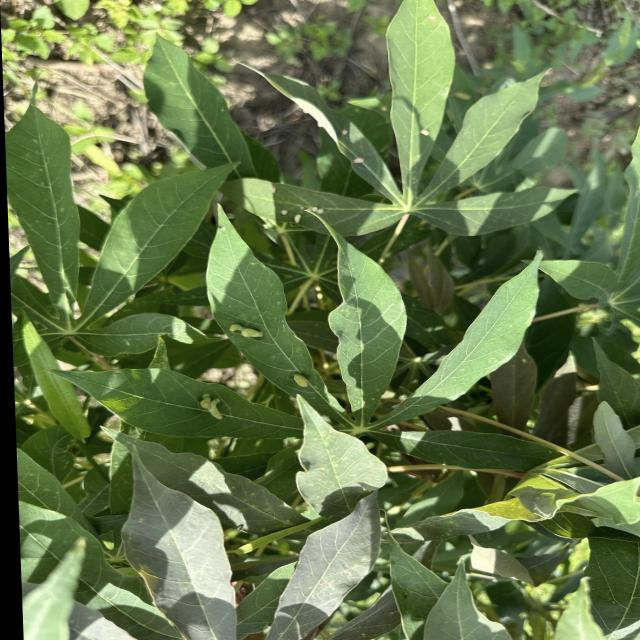Mosca: (219, 318, 281, 348), (276, 196, 335, 225), (187, 385, 230, 423), (285, 363, 322, 394), (405, 112, 437, 147), (328, 116, 363, 145), (334, 146, 371, 173)
